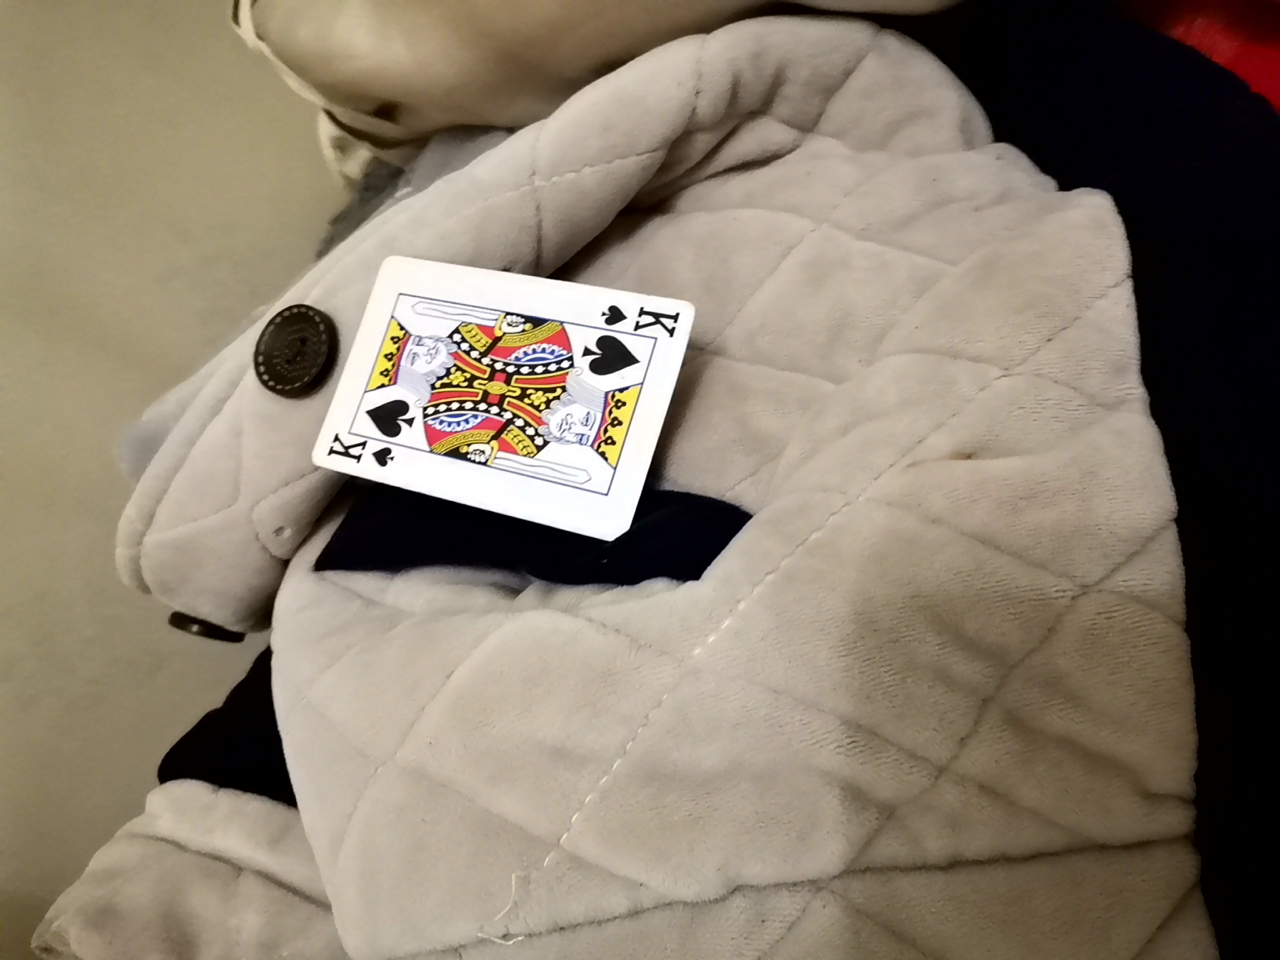ht k: (325, 272, 695, 544)
